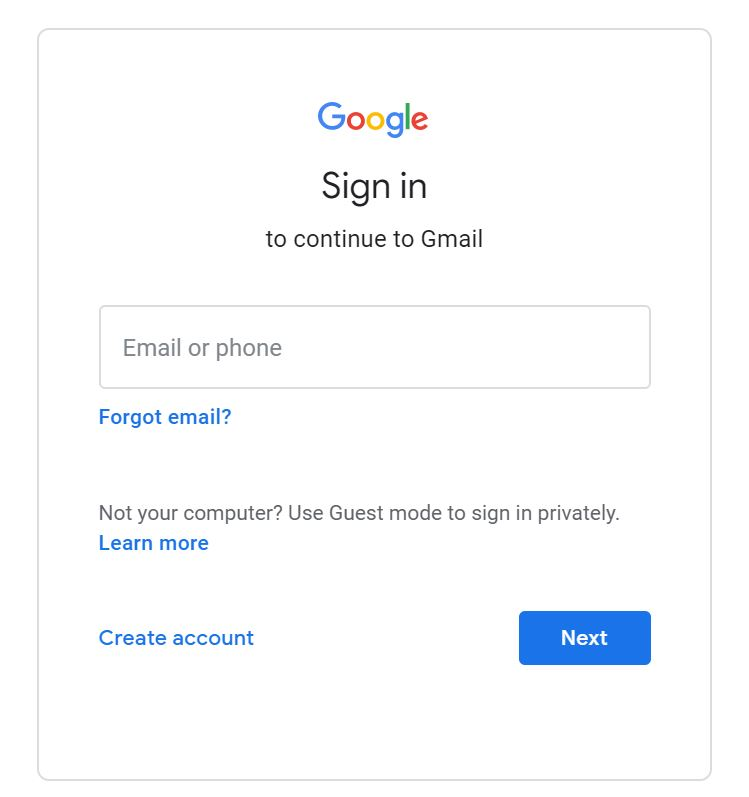button: (512, 605, 658, 669)
textbox: (87, 292, 663, 399)
